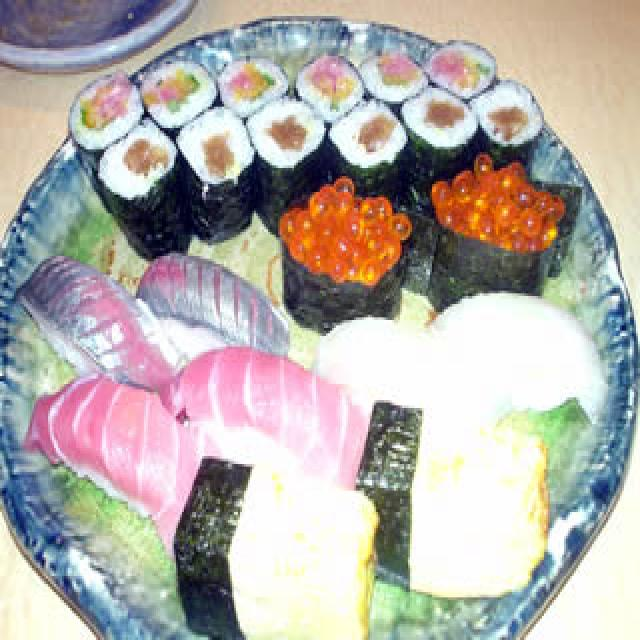寿司卷物: (24, 59, 608, 624)
